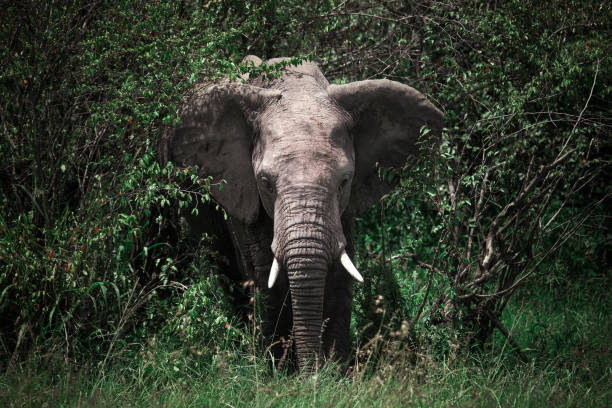africanelephant: (212, 78, 371, 293)
